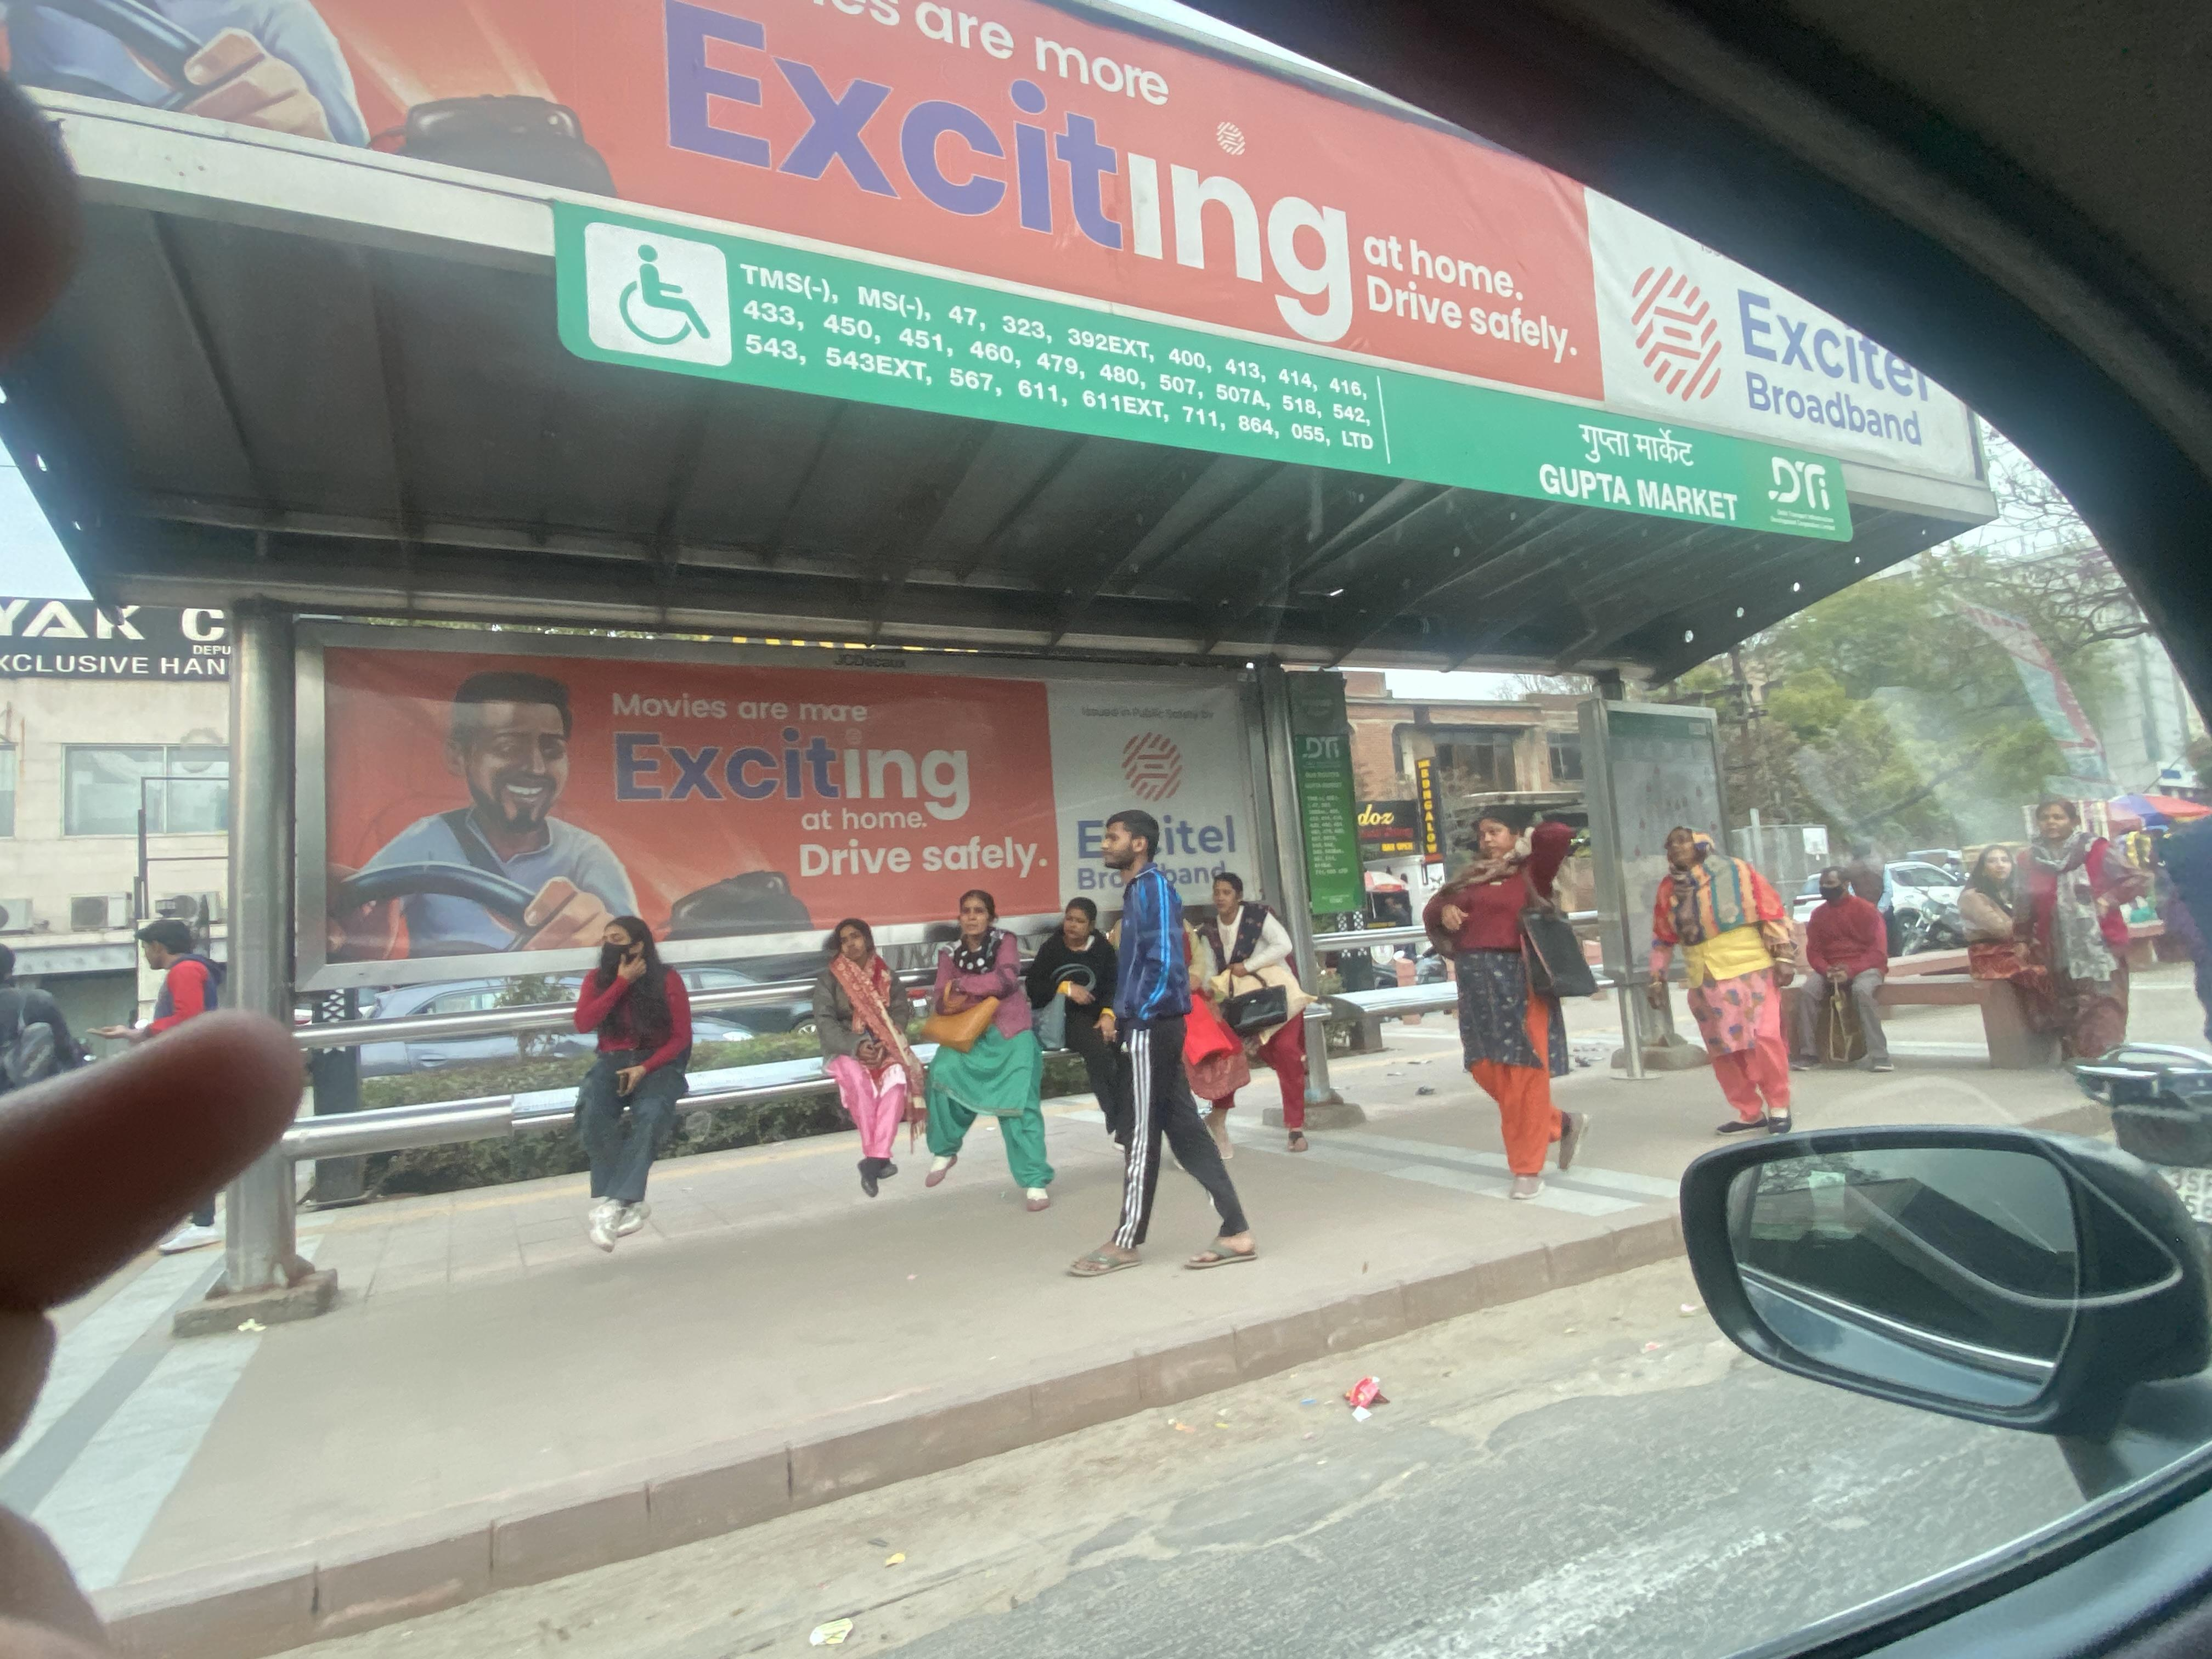Bus-stop-board: (564, 214, 1876, 582)
